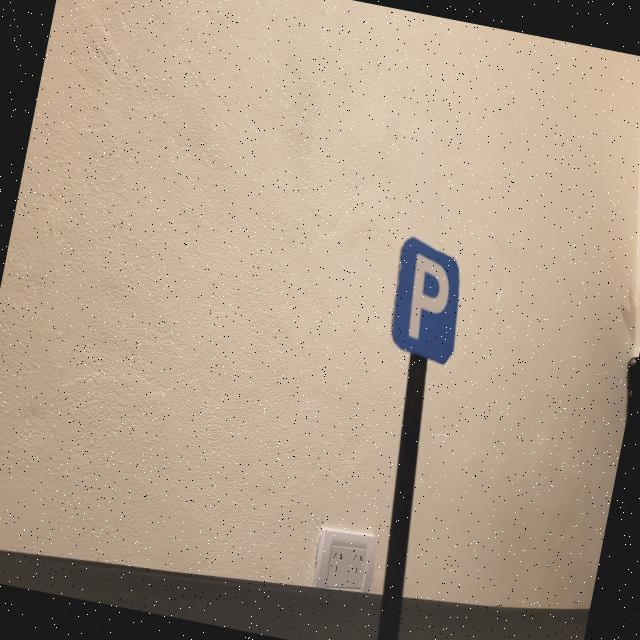parking: (379, 235, 474, 366)
